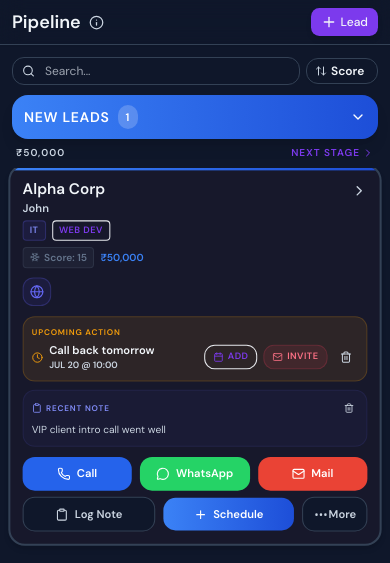
Test: CRMPipeline (optimized mobile layout) › reveals management actions from the More menu
Click the button "More": (335, 514) [302,497,367,532]
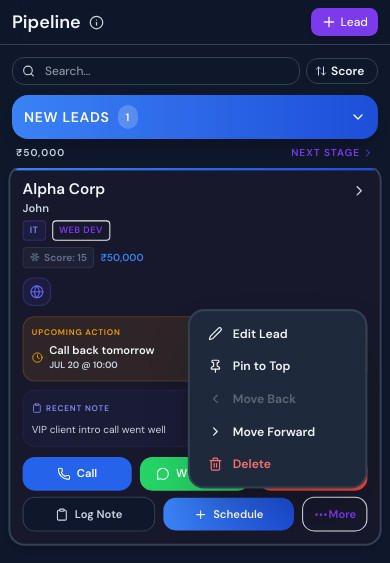
expect the button "Edit Lead" is shown: met, box [196,317,359,350]
expect the button "Move Forward" is shown: met, box [196,415,359,448]
expect the button "Delete" is shown: met, box [196,448,359,480]
